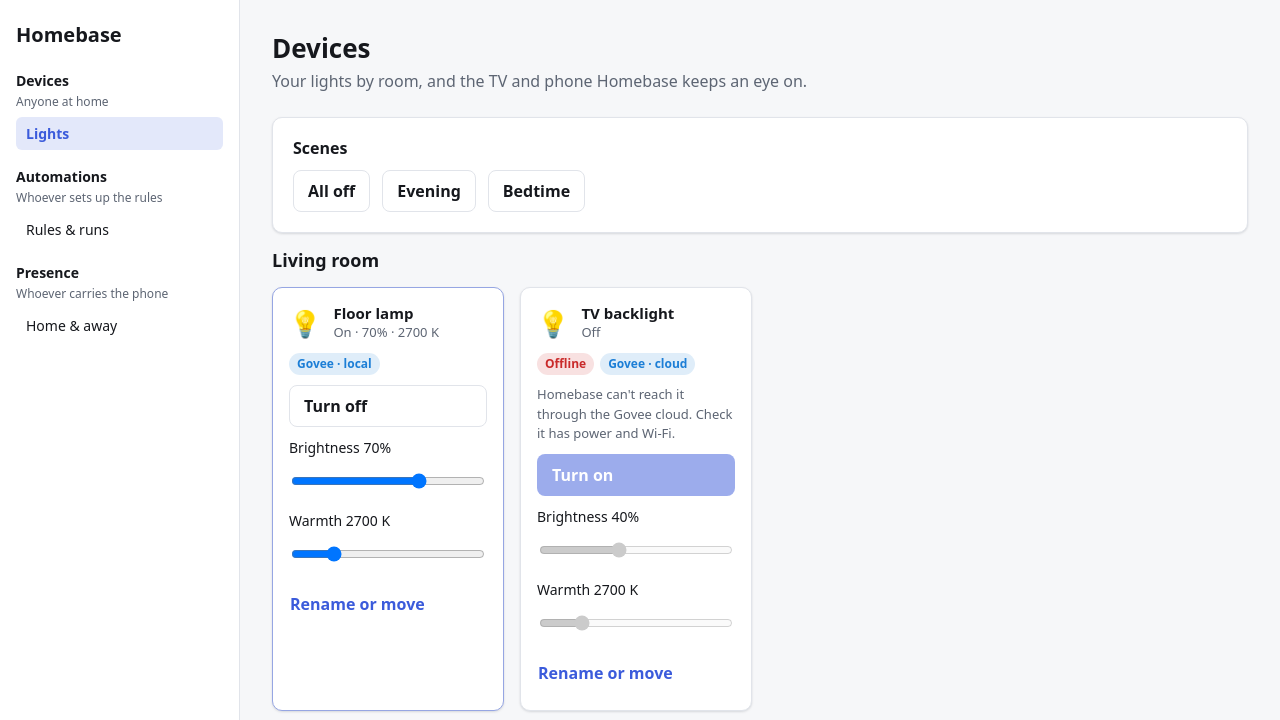
Test: DevicesPage › turns a light off and shows the state the server confirmed
The image size is (1280, 720).
Click the button "Turn off" at (388, 406), box top-left (289, 385), bottom-right (487, 427)
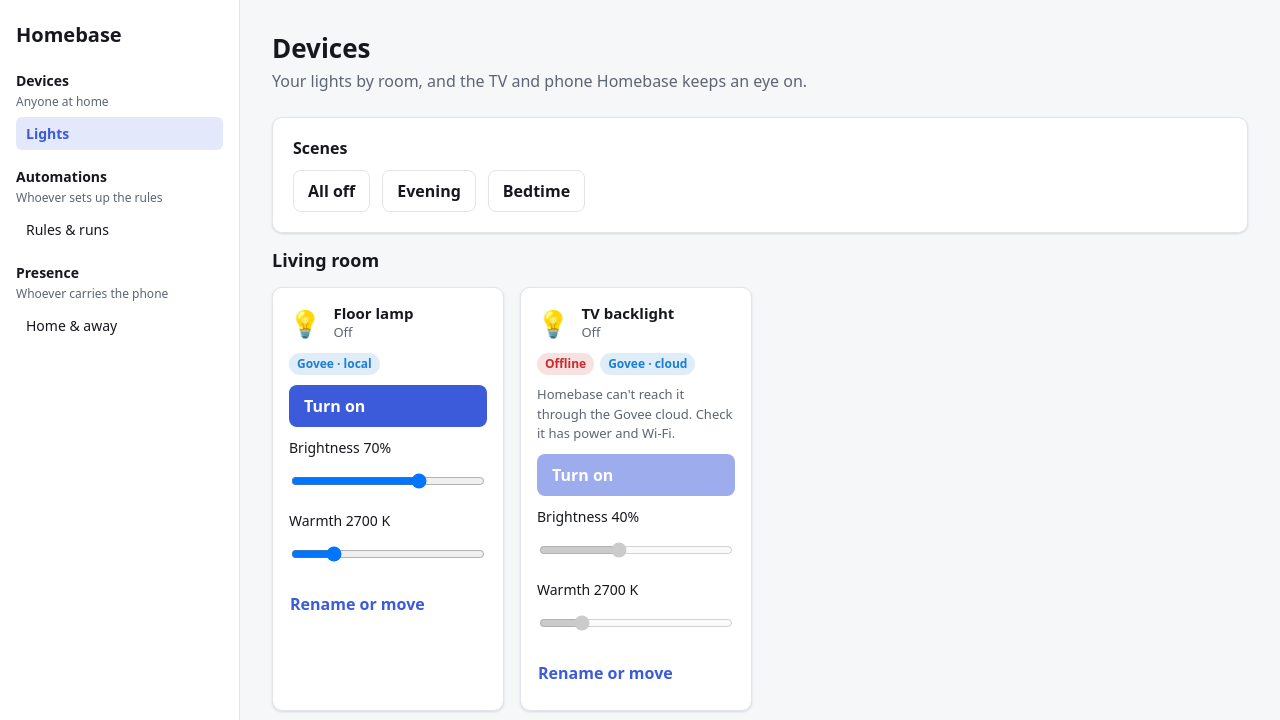
Result: the text "Off" below "Floor lamp" is shown at top-left (333, 323), bottom-right (352, 341)
